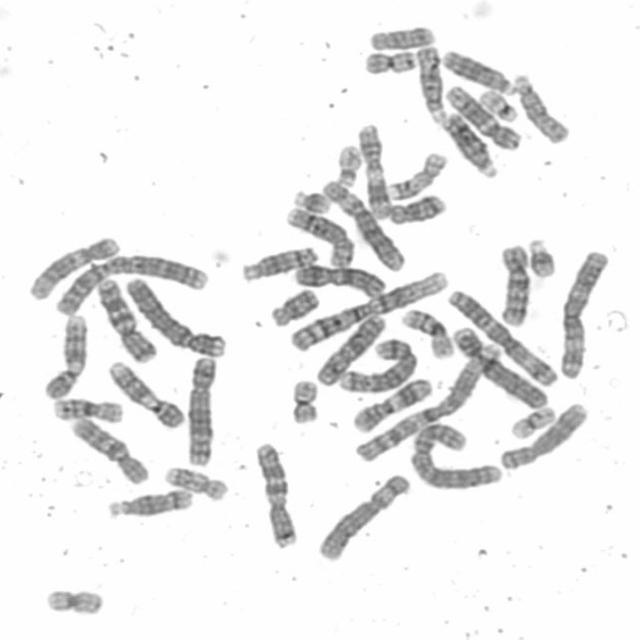A1: (347, 335, 503, 464), (282, 266, 455, 353)
A2: (48, 250, 212, 316), (406, 418, 505, 490)
A3: (442, 285, 560, 388), (555, 244, 612, 381)
B4: (449, 322, 550, 411), (121, 274, 227, 358)
B5: (336, 334, 423, 394), (182, 352, 222, 468)
C10: (64, 412, 153, 486), (494, 239, 532, 329)
C11: (349, 374, 434, 434), (353, 120, 391, 220)
C12: (21, 232, 123, 300), (443, 81, 525, 151)
C6: (314, 470, 413, 562), (318, 176, 407, 273)
C7: (250, 435, 303, 550), (94, 274, 160, 364)
C8: (495, 399, 591, 471), (282, 203, 357, 269)
C9: (105, 356, 188, 429), (39, 308, 91, 402)
D13: (436, 108, 499, 182), (438, 44, 518, 96)
D14: (237, 242, 321, 284), (105, 485, 196, 521)
D15: (509, 70, 574, 146), (411, 41, 448, 123)
E16: (398, 303, 458, 360), (48, 392, 124, 424)
E17: (384, 148, 449, 201), (160, 462, 232, 502)
E18: (264, 284, 322, 328), (382, 190, 450, 227)
F19: (40, 584, 107, 616), (506, 402, 558, 441)
F20: (286, 376, 322, 426), (360, 46, 420, 75)
G21: (524, 232, 560, 280), (289, 184, 335, 216)
G22: (474, 84, 522, 123), (332, 140, 363, 190)
X: (312, 309, 391, 386), (289, 260, 388, 300)
